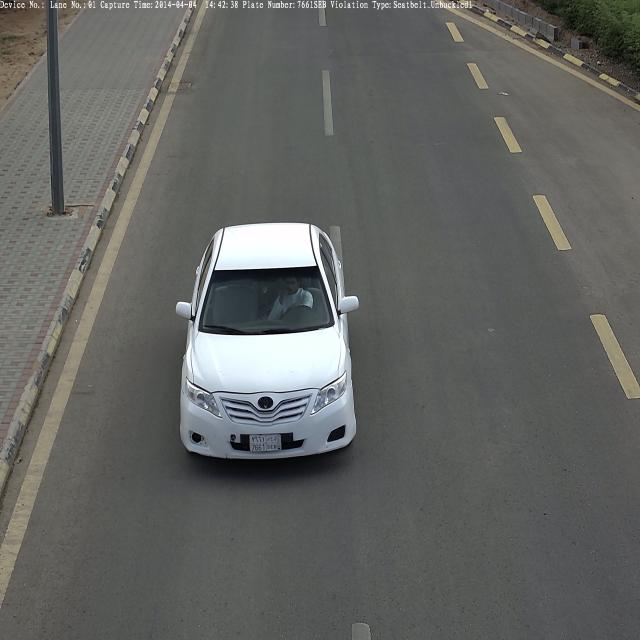person_without_seatbelt: (270, 272, 312, 327)
